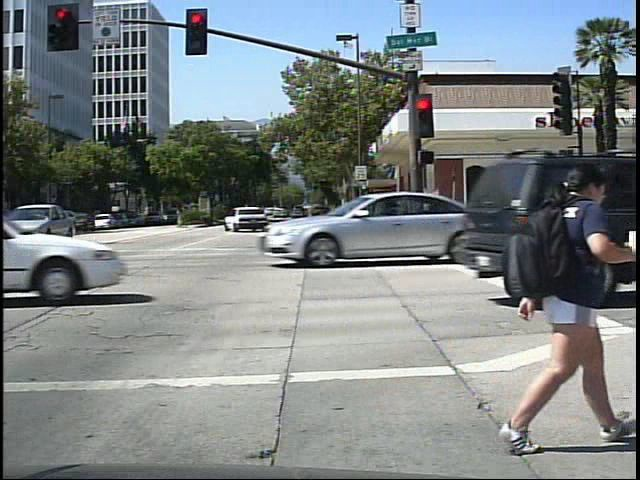person: (499, 128, 631, 460)
